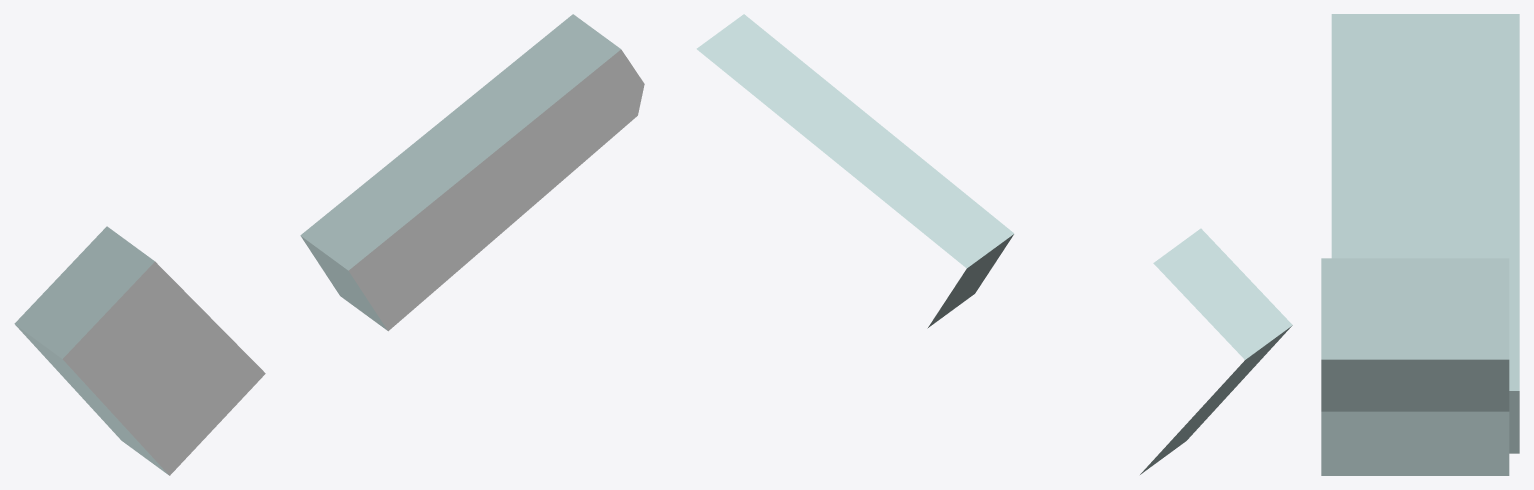
The picture shows the model from 3 angles, left to right: view 1: azimuth 30°, elevation 25°; view 2: azimuth 150°, elevation 25°; view 3: azimuth 270°, elevation 25°; orthographic projection. The views are drawn at different scales.
Parts seen in each view (by area): view 1: 0_1_0_1_1_3_1_0_3; view 2: 0_1_0_1_1_3_1_0_3; view 3: 0_1_0_1_1_3_1_0_3.
Boxes of the visible parts, x1=… form: 0_1_0_1_1_3_1_0_3: x1=14, y1=14, x2=644, y2=475; 0_1_0_1_1_3_1_0_3: x1=696, y1=14, x2=1292, y2=474; 0_1_0_1_1_3_1_0_3: x1=1321, y1=14, x2=1519, y2=475.
Bounding box in the file's own units: 20.83 × 10.96 × 3.17.
